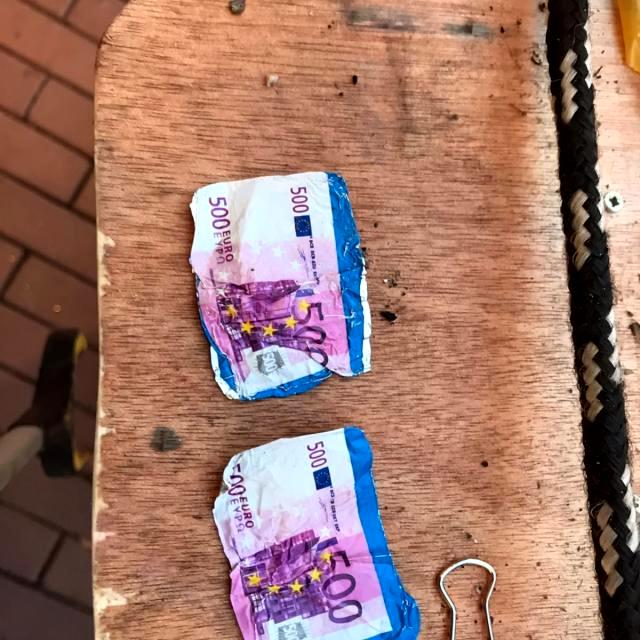Plastic: (208, 423, 422, 639), (185, 166, 373, 404)
